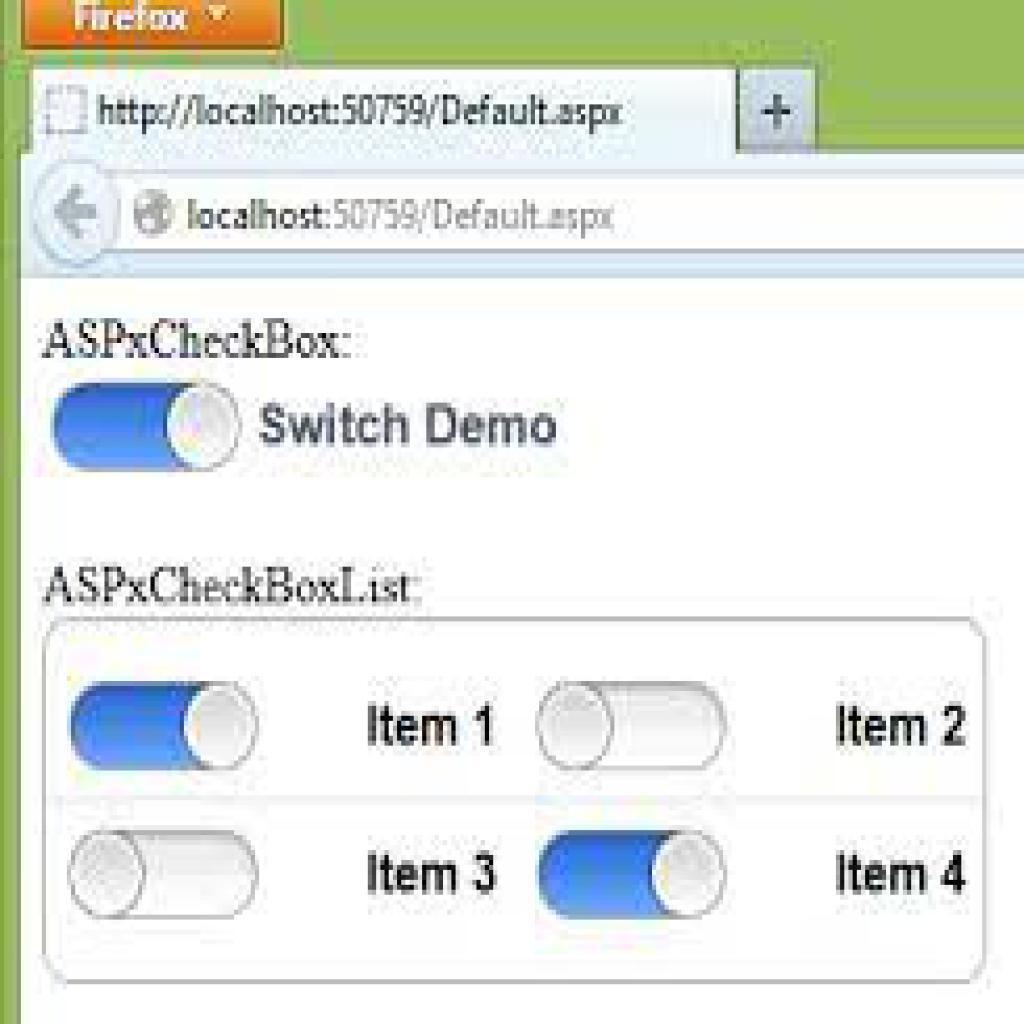label: (254, 399, 567, 460), (830, 837, 972, 907), (366, 841, 498, 904), (361, 697, 496, 756), (830, 700, 970, 750)
switch: (526, 815, 737, 928), (65, 828, 260, 921), (533, 681, 729, 772), (50, 383, 243, 474), (69, 681, 262, 772)
